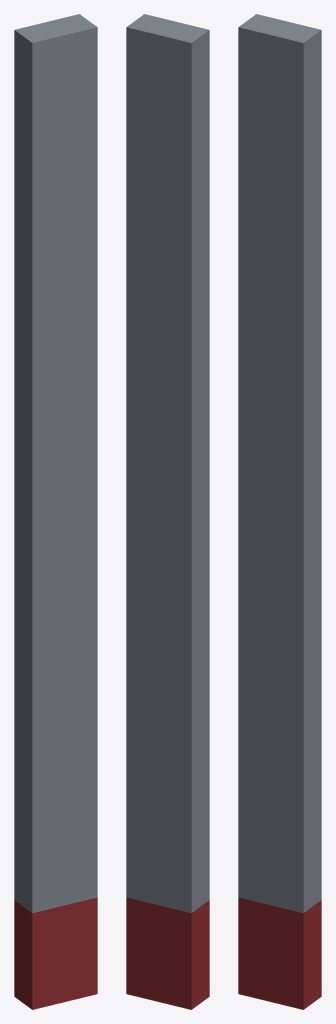
File: PigPen_Pin.fbx
3 views of the same model, side by side, from view 1: azimuth 30°, elevation 25°; view 2: azimuth 150°, elevation 25°; view 3: azimuth 330°, elevation 25° (orthographic).
Parts seen in each view (by area): view 1: PigPen_Pin; view 2: PigPen_Pin; view 3: PigPen_Pin.
Boxes of the visible parts, box(x1,y1,x2,y2) form: PigPen_Pin: box(14, 14, 97, 1009); PigPen_Pin: box(126, 14, 209, 1009); PigPen_Pin: box(238, 14, 321, 1009).
Bounding box in the file's own units: 0.0889 × 1.26 × 0.0427.
